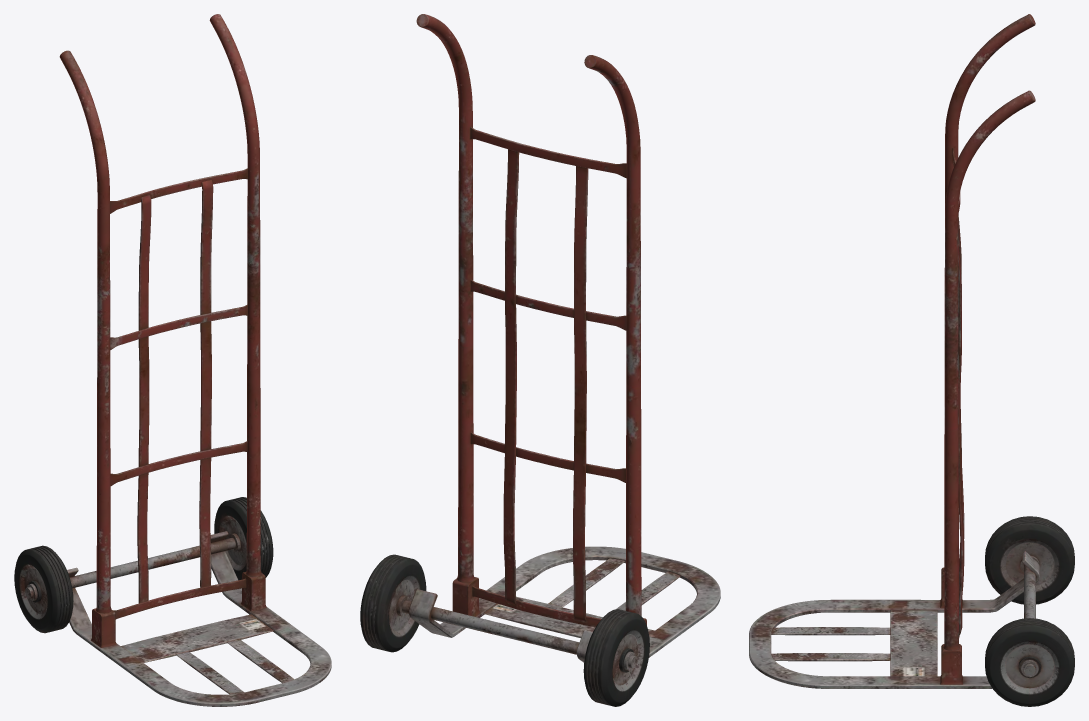
Rendered from hand_truck.glb.
3 views of the same model, side by side, from view 1: azimuth 30°, elevation 25°; view 2: azimuth 150°, elevation 25°; view 3: azimuth 270°, elevation 25° (orthographic). The views are drawn at different scales.
Parts seen in each view (by area): view 1: hand_truck; view 2: hand_truck; view 3: hand_truck.
Part boxes in pixels (x1,y1,x2,y2): hand_truck: (14, 14, 331, 706); hand_truck: (360, 14, 720, 706); hand_truck: (749, 14, 1074, 706).
Bounding box in the file's own units: 0.5933 × 1.4 × 0.6925.
Materials: 1 (1 with a texture image).
